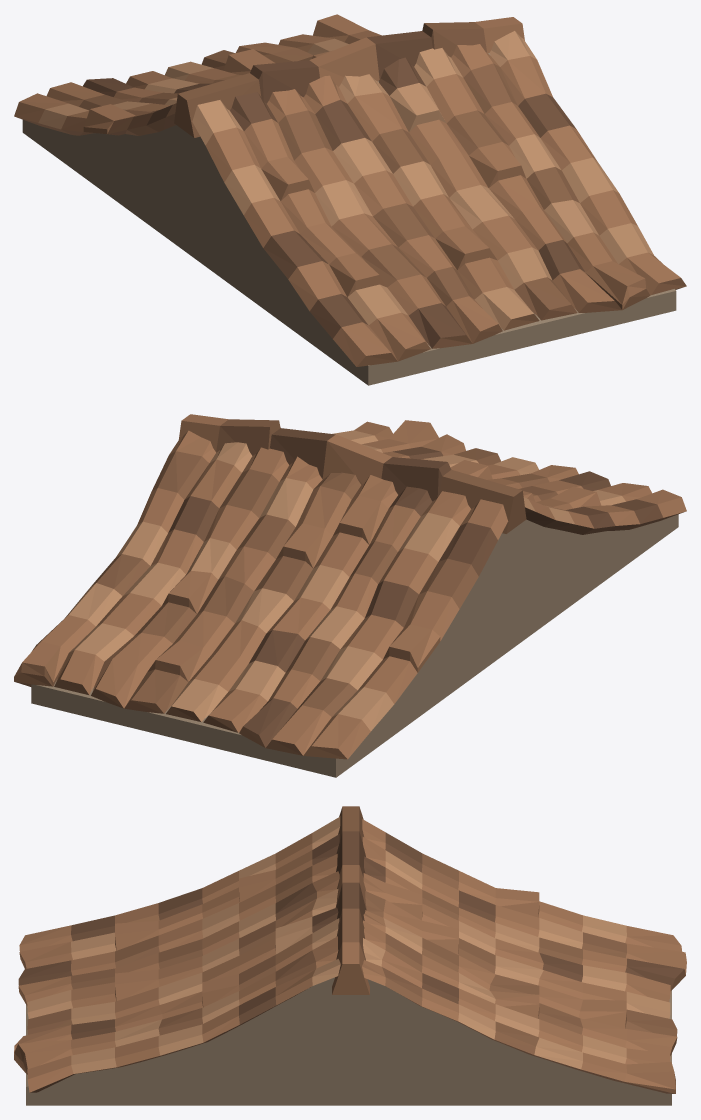
File: SM_Bld_Cuba_Roof_03.glb
3 views of the same model, one above another, from view 1: azimuth 30°, elevation 25°; view 2: azimuth 150°, elevation 25°; view 3: azimuth 270°, elevation 25° (orthographic). The views are drawn at different scales.
Visible parts, largest first — view 1: SM_Bld_Cuba_Roof_03_part00; view 2: SM_Bld_Cuba_Roof_03_part00; view 3: SM_Bld_Cuba_Roof_03_part00.
Boxes of the visible parts, x1=… form: SM_Bld_Cuba_Roof_03_part00: x1=14, y1=14, x2=686, y2=385; SM_Bld_Cuba_Roof_03_part00: x1=14, y1=414, x2=686, y2=777; SM_Bld_Cuba_Roof_03_part00: x1=14, y1=806, x2=686, y2=1105.
Size of the model in its own units: 2.38 by 1.17 by 4.36.
Materials: 1 (1 with a texture image).
